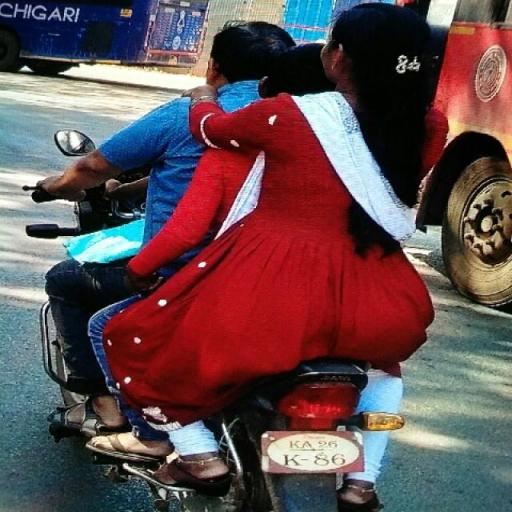tripple riding: (16, 0, 494, 399)
